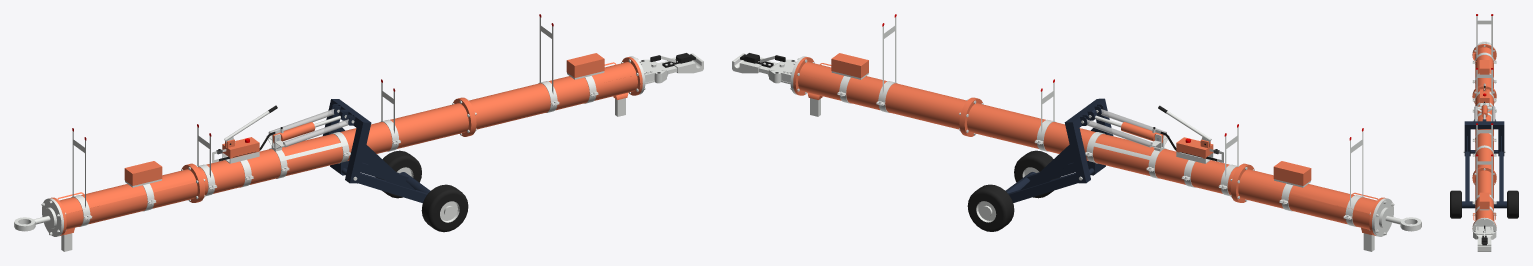
File: トーバー_1_17.glb
3 renders of one model, left to right at view 1: azimuth 30°, elevation 25°; view 2: azimuth 150°, elevation 25°; view 3: azimuth 270°, elevation 25°, orthographic. The views are drawn at different scales.
Parts seen in each view (by area): view 1: Group (×28); view 2: Group (×27); view 3: Group (×54).
Boxes of the visible parts, x1,y1,x2,y2 form: Group (×28): [61, 65, 637, 229]; Group (×27): [798, 65, 1374, 229]; Group (×54): [1462, 16, 1506, 251].
Size of the model in its own units: 4.11 by 0.9381 by 0.5824.
10 materials, 1 textured.
